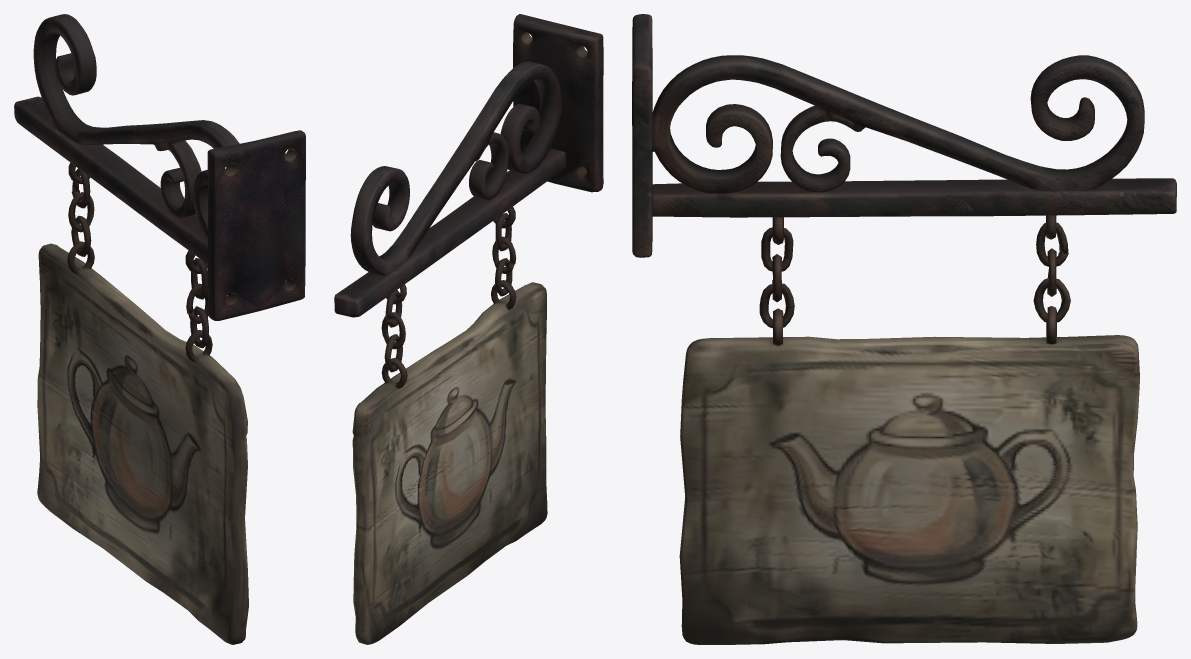
Rendered from SM_Env_SohoHangingShopSign.fbx.
3 renders of one model, left to right at view 1: azimuth 30°, elevation 25°; view 2: azimuth 150°, elevation 25°; view 3: azimuth 270°, elevation 25°, orthographic. The views are drawn at different scales.
Visible parts, largest first — view 1: SM_Env_SohoHangingShopSign; view 2: SM_Env_SohoHangingShopSign; view 3: SM_Env_SohoHangingShopSign.
Part boxes in pixels (x1=…): SM_Env_SohoHangingShopSign: x1=14, y1=14, x2=305, y2=644; SM_Env_SohoHangingShopSign: x1=334, y1=14, x2=603, y2=644; SM_Env_SohoHangingShopSign: x1=632, y1=14, x2=1176, y2=644.
Bounding box in the file's own units: 4.97 × 22.09 × 27.
Materials: 1 (1 with a texture image).
